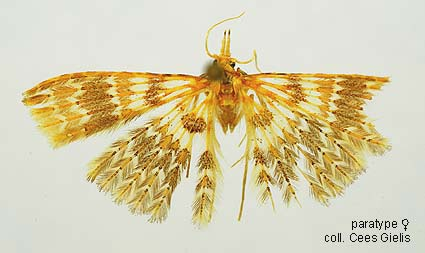Alucitidae: (19, 13, 397, 227)
moth: (21, 15, 399, 229)
